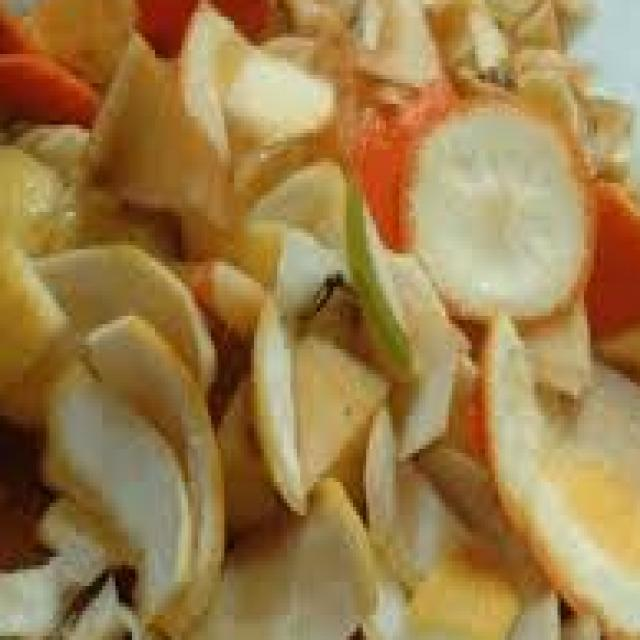inorganic: (5, 1, 620, 611)
